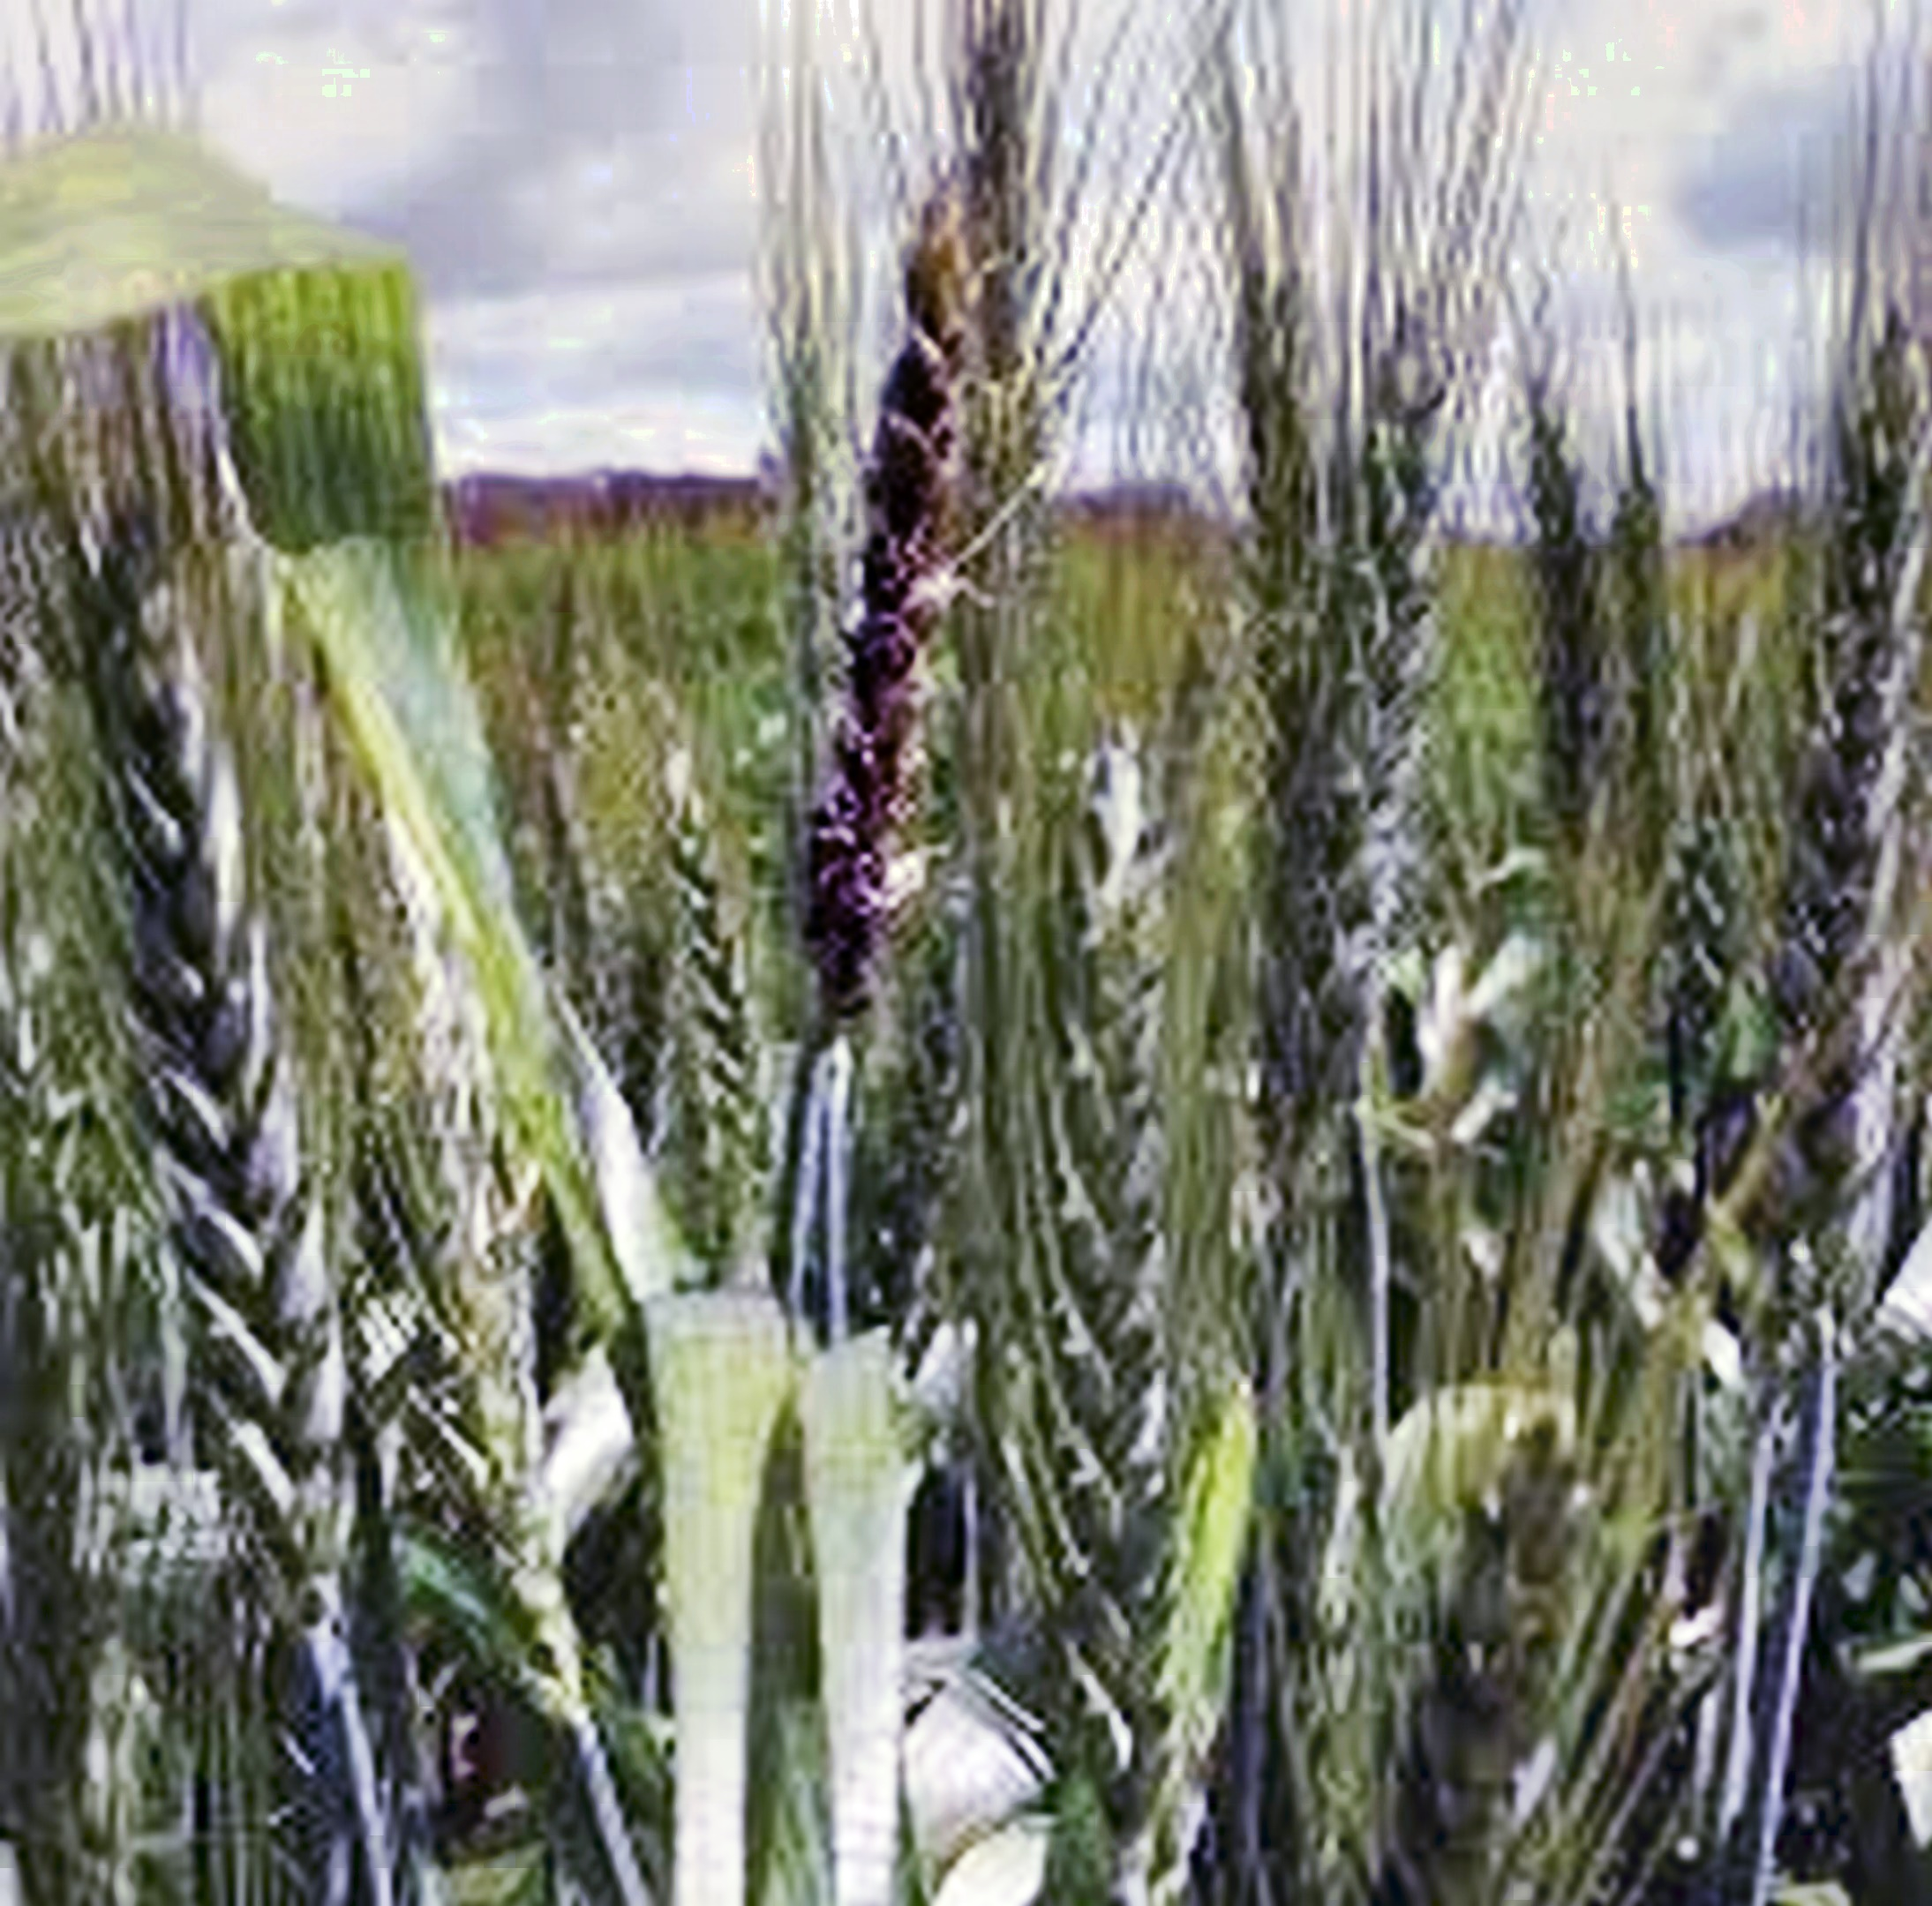Wheat Loose Smut: (789, 290, 1009, 976)
